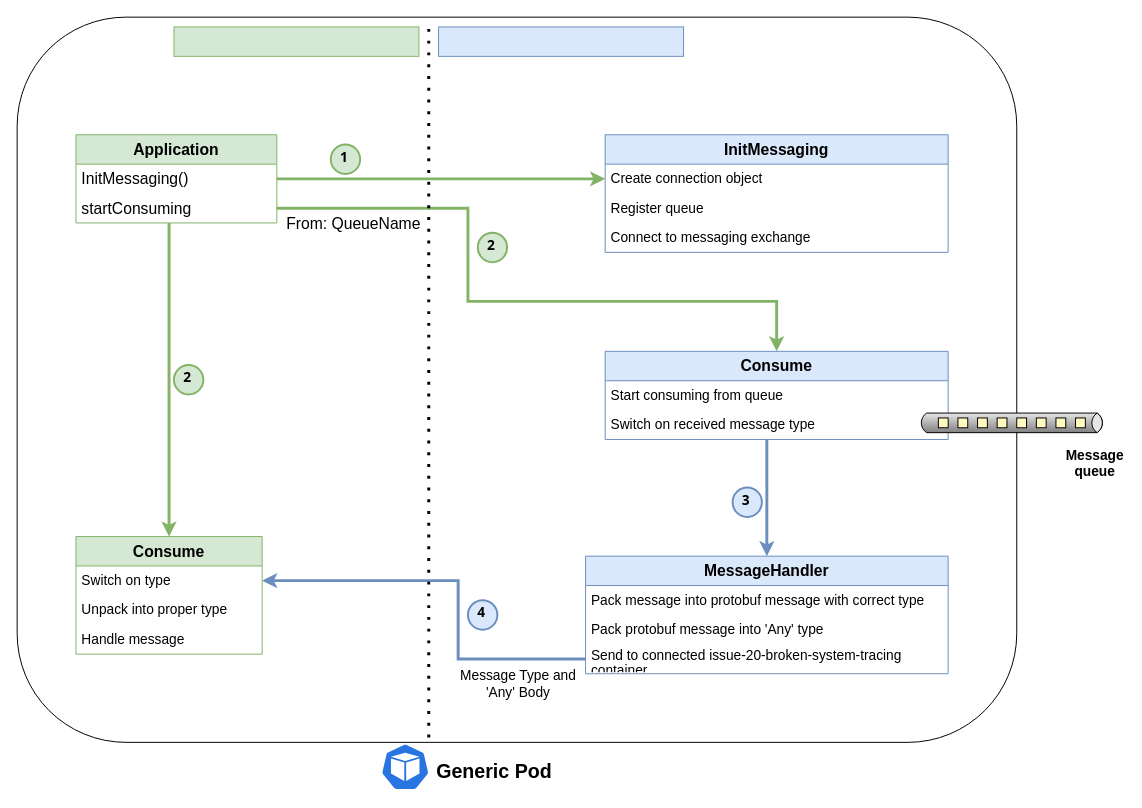
The diagram is 1142 pixels wide and 808 high, and some of its shapes have lost their labels. The shapes that lost their labels are listed below. From the top down, each one's centre as x and y in pixels, then its label:
point (296, 41): Application container
point (561, 41): Sidecar container
